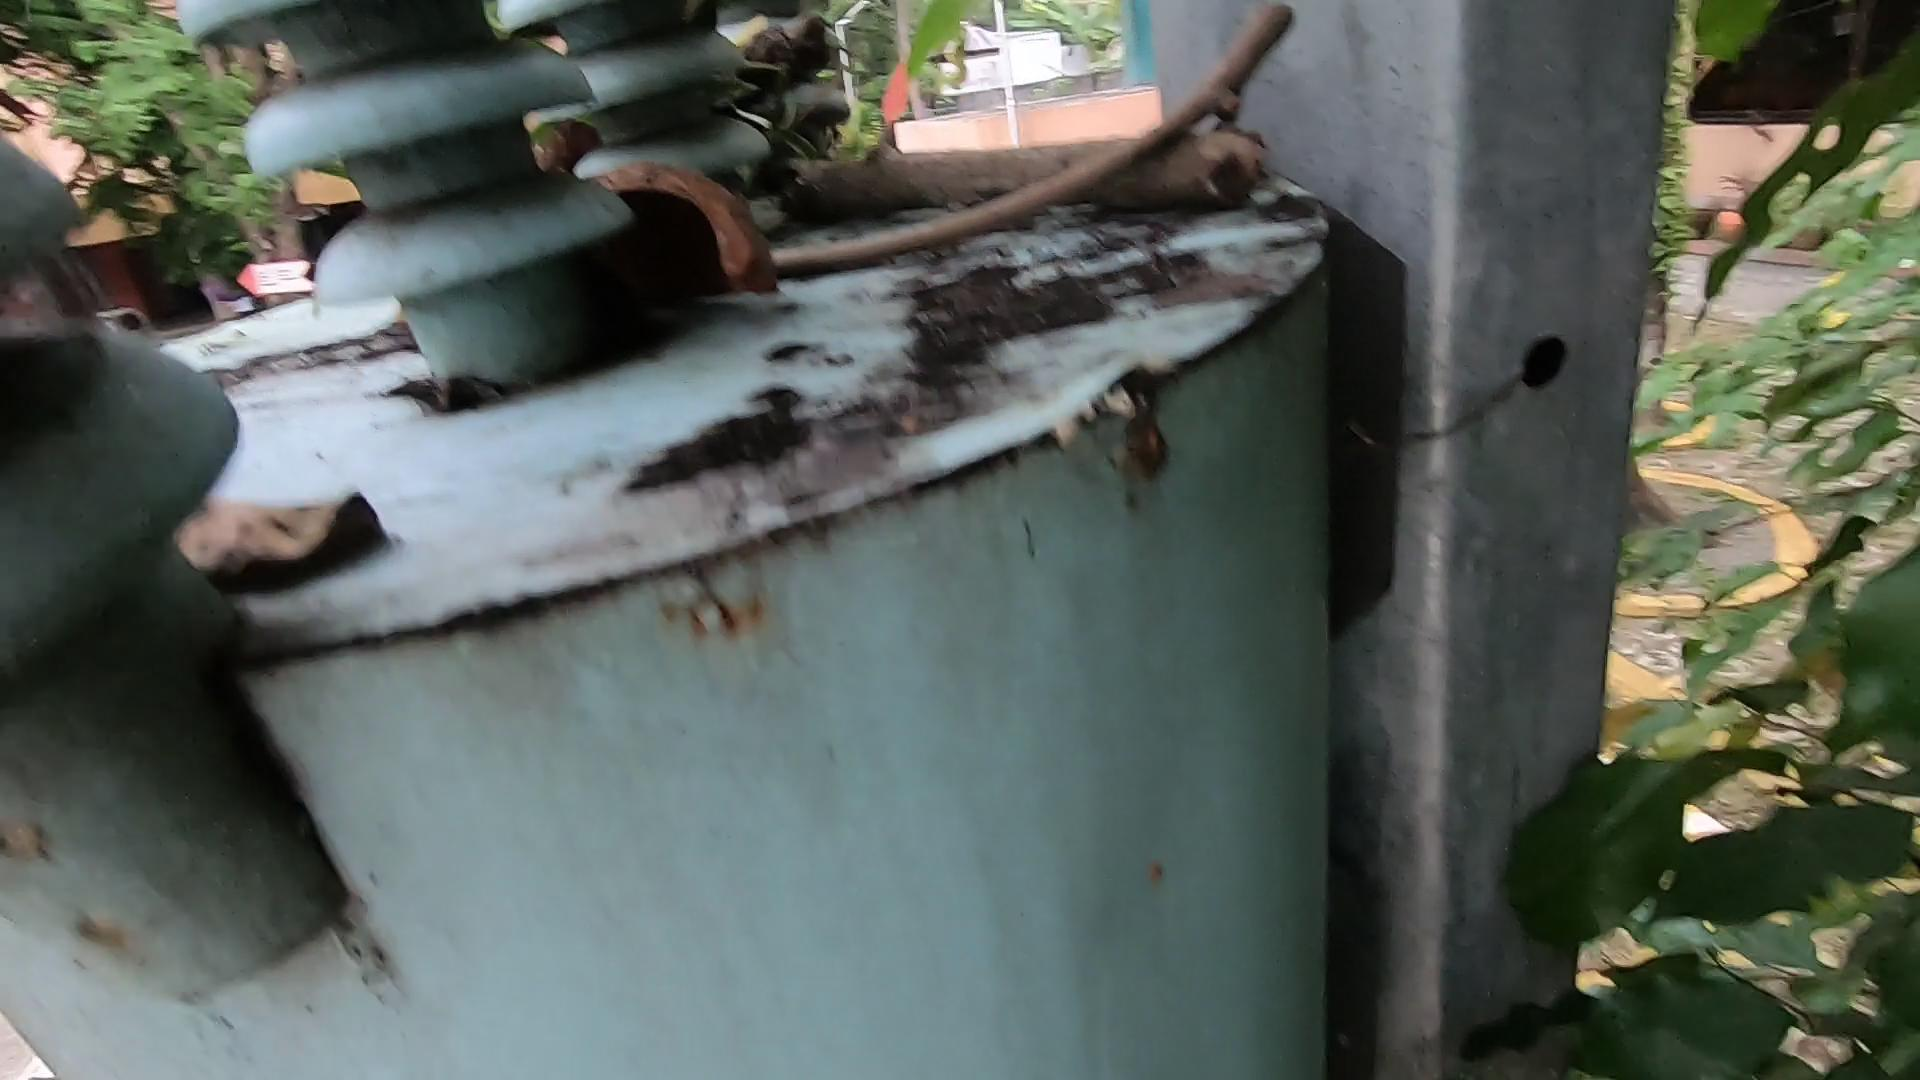branch with leaves: (733, 105, 1276, 232)
leaf: (133, 436, 426, 599)
mahogany fruit: (562, 148, 796, 291)
tree branch: (745, 3, 1295, 287)
